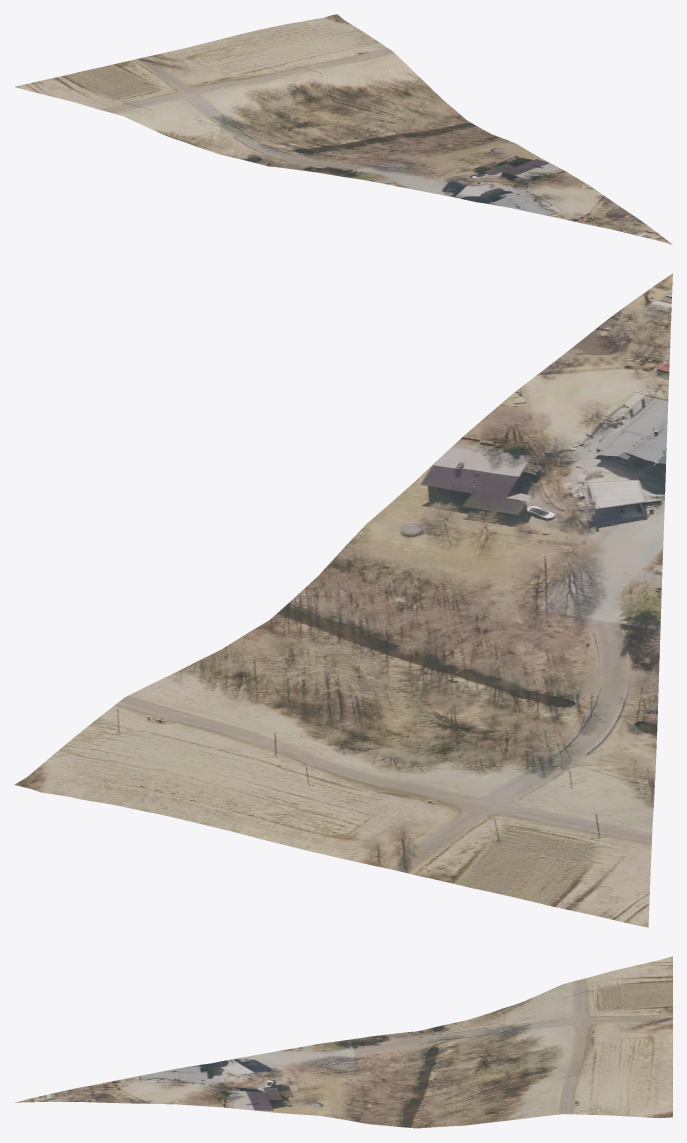
The model's file is CM_Terrain_24489434_6818360.fbx.
The picture shows the model from 3 angles, top to bottom: view 1: azimuth 30°, elevation 25°; view 2: azimuth 150°, elevation 25°; view 3: azimuth 270°, elevation 25°; orthographic projection. The views are drawn at different scales.
Parts seen in each view (by area): view 1: CM_Terrain_24489434_6818360_LOD0; view 2: CM_Terrain_24489434_6818360_LOD0; view 3: CM_Terrain_24489434_6818360_LOD0.
Part boxes in pixels (x1,y1,x2,y2): CM_Terrain_24489434_6818360_LOD0: (14, 14, 672, 244); CM_Terrain_24489434_6818360_LOD0: (14, 273, 672, 927); CM_Terrain_24489434_6818360_LOD0: (15, 956, 672, 1128).
Size of what is drawn, in the model's own units: 113 by 9.29 by 204.
